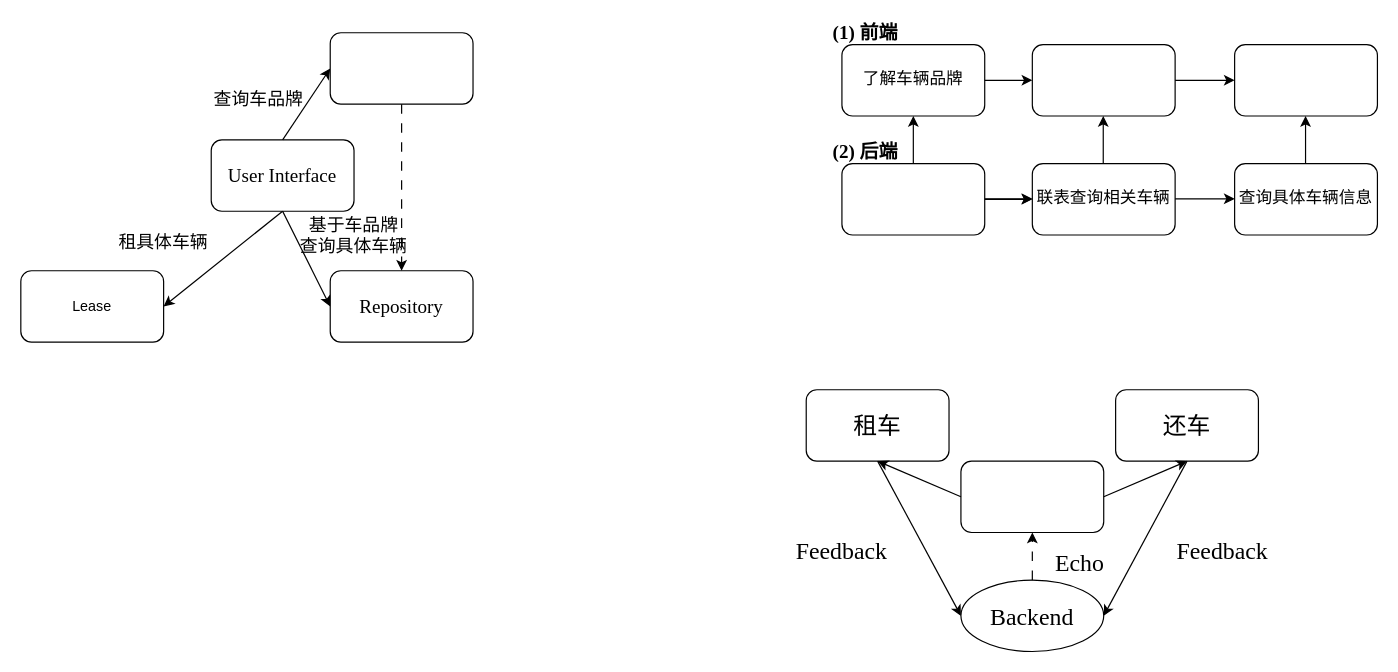
Image size: 1398x672. Some labels were removed from this diagram. Here are the shapes that lost their labels. From the top down, the centre of each, then its label:
point 401,68: Car Model
point 1103,79: 了解相应品牌车辆
point 1305,79: 了解具体车辆
point 913,198: 查询关系Vehicle
point 1032,496: Interface
